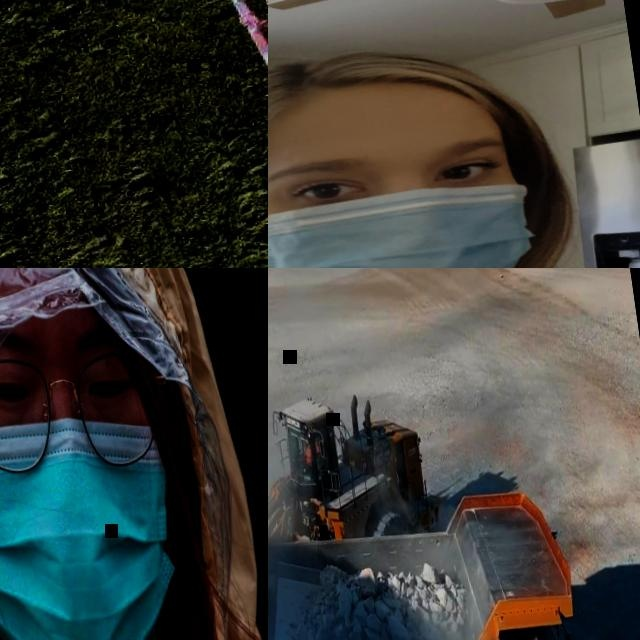Mask: (0, 402, 200, 640), (268, 174, 550, 268)
NO-Hardhat: (268, 34, 512, 177)
Person: (0, 268, 268, 640), (268, 15, 640, 268)
machinery: (268, 473, 630, 640), (268, 374, 477, 640)
